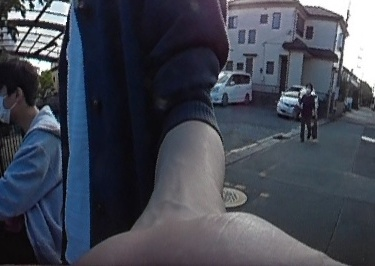person: (297, 83, 316, 143)
